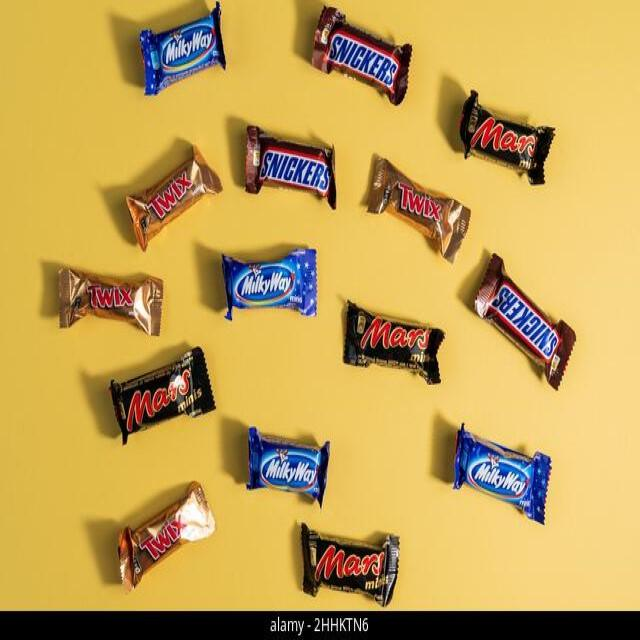mars_chocolate: (462, 110, 583, 178), (126, 367, 212, 425), (348, 322, 435, 375), (305, 534, 398, 578)
snickers_chocolate: (496, 265, 572, 377), (330, 17, 398, 98), (262, 136, 330, 206)
